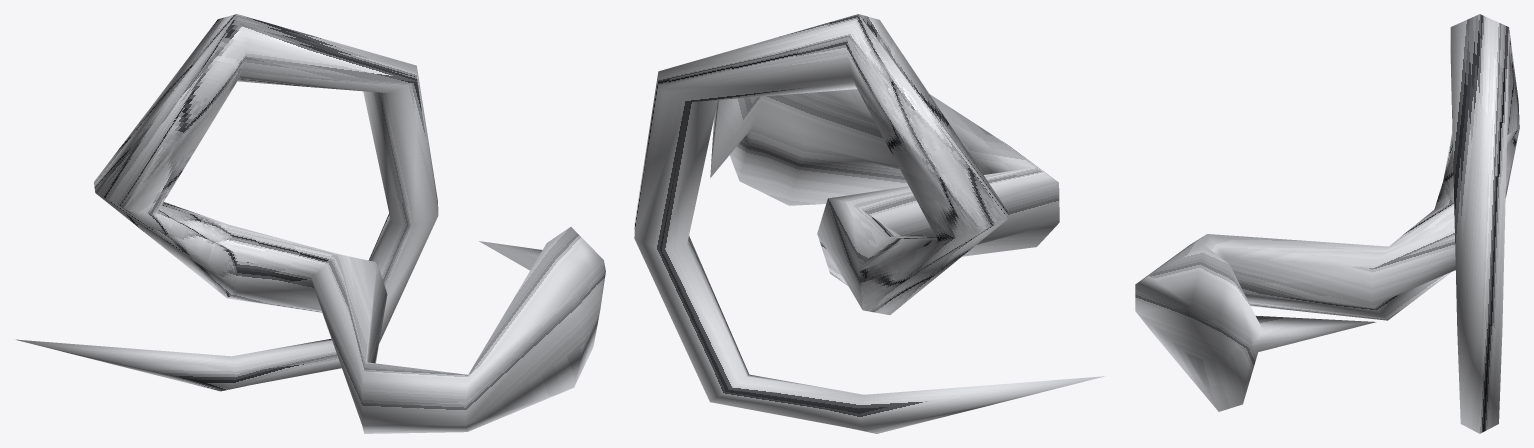
File: snake_000018.obj
The picture shows the model from 3 angles, left to right: view 1: azimuth 30°, elevation 25°; view 2: azimuth 150°, elevation 25°; view 3: azimuth 270°, elevation 25°; orthographic projection. The views are drawn at different scales.
Visible parts, largest first — view 1: Cylinder; view 2: Cylinder; view 3: Cylinder.
Boxes of the visible parts, x1=… form: Cylinder: x1=16, y1=14, x2=605, y2=433; Cylinder: x1=634, y1=14, x2=1104, y2=433; Cylinder: x1=1135, y1=14, x2=1519, y2=433.
Bounding box in the file's own units: 2.92 × 2.24 × 2.17.
